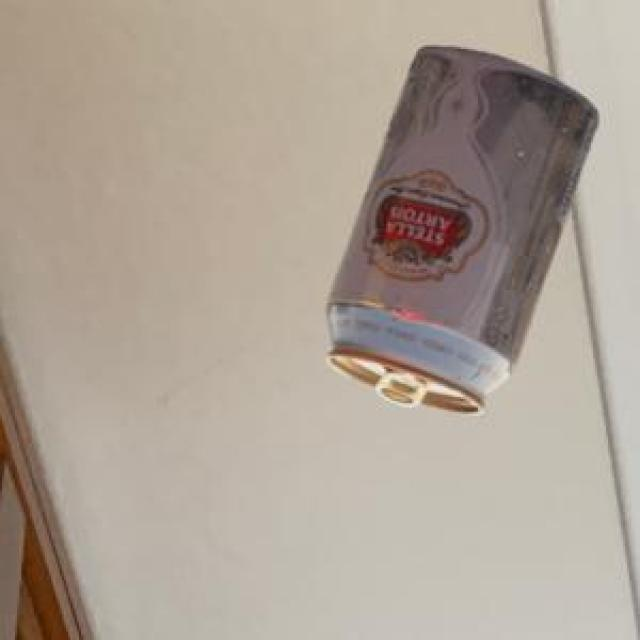Can: (323, 44, 594, 413)
